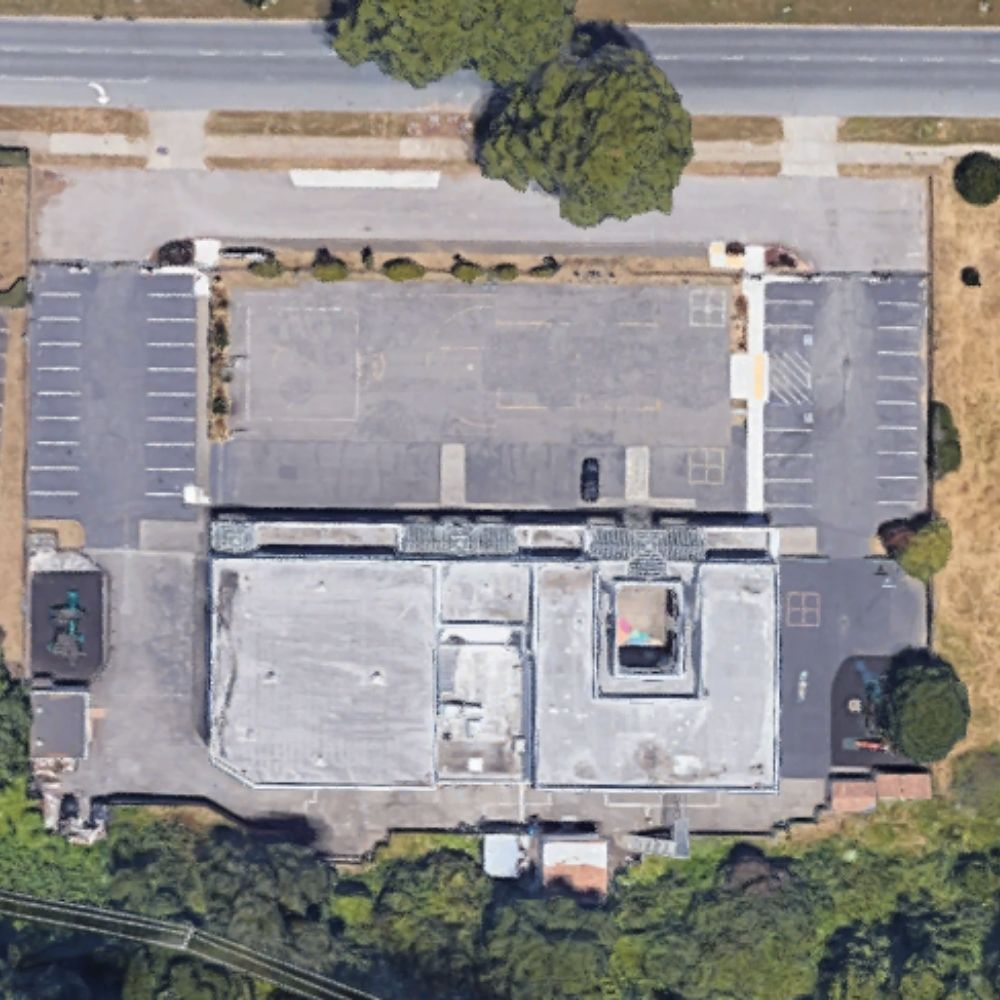parking: (30, 260, 200, 520), (765, 260, 925, 520)
